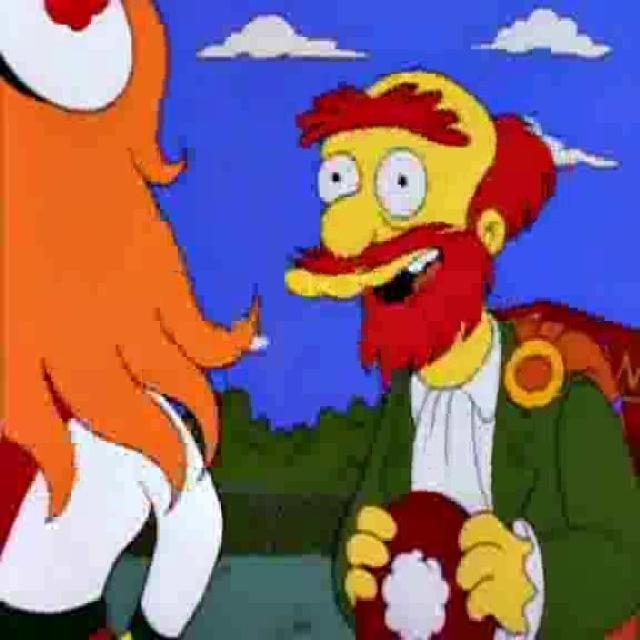Groundskeeper Willie: (280, 62, 564, 393)
